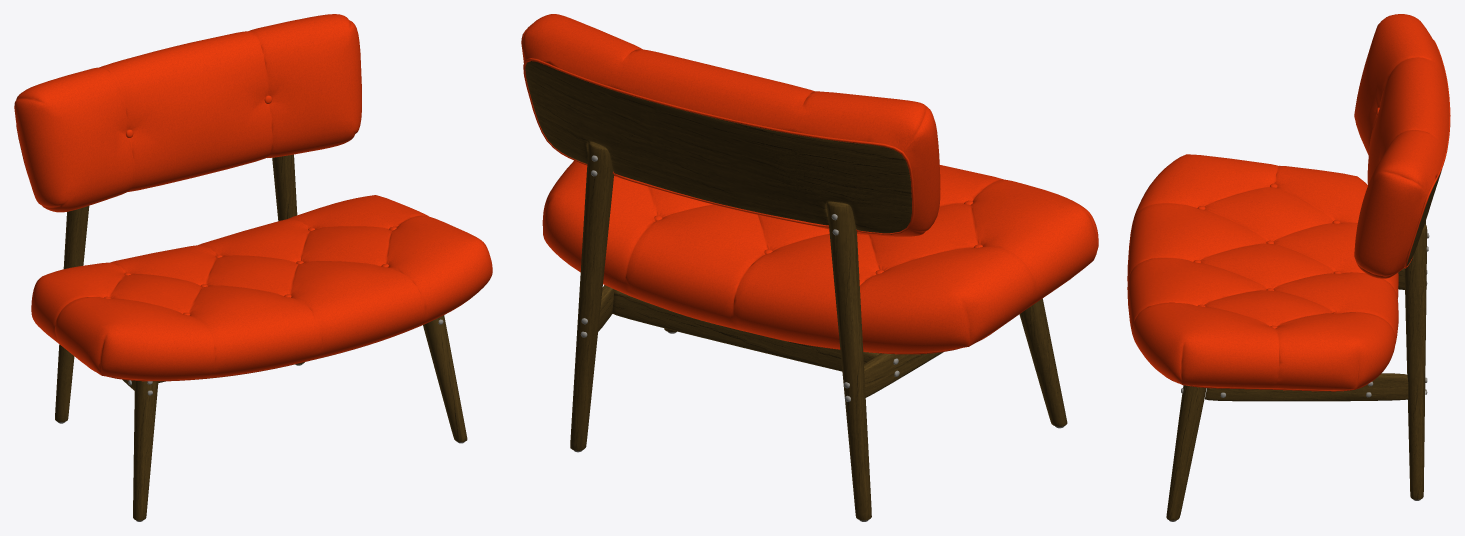
The model's file is chair.glb.
3 views of the same model, side by side, from view 1: azimuth 30°, elevation 25°; view 2: azimuth 150°, elevation 25°; view 3: azimuth 270°, elevation 25° (orthographic). The views are drawn at different scales.
Parts seen in each view (by area): view 1: SheenChair_fabric, SheenChair_wood; view 2: SheenChair_fabric, SheenChair_wood; view 3: SheenChair_fabric, SheenChair_wood.
Part boxes in pixels (bbox=[...]): SheenChair_fabric: bbox=[14, 14, 492, 381]; SheenChair_wood: bbox=[55, 154, 467, 520]; SheenChair_fabric: bbox=[521, 14, 1098, 354]; SheenChair_wood: bbox=[525, 61, 1067, 520]; SheenChair_fabric: bbox=[1127, 14, 1450, 391]; SheenChair_wood: bbox=[1166, 170, 1441, 520].
Bounding box in the file's own units: 0.8266 × 0.6862 × 0.5702.
Materials: 4 (3 with a texture image).
